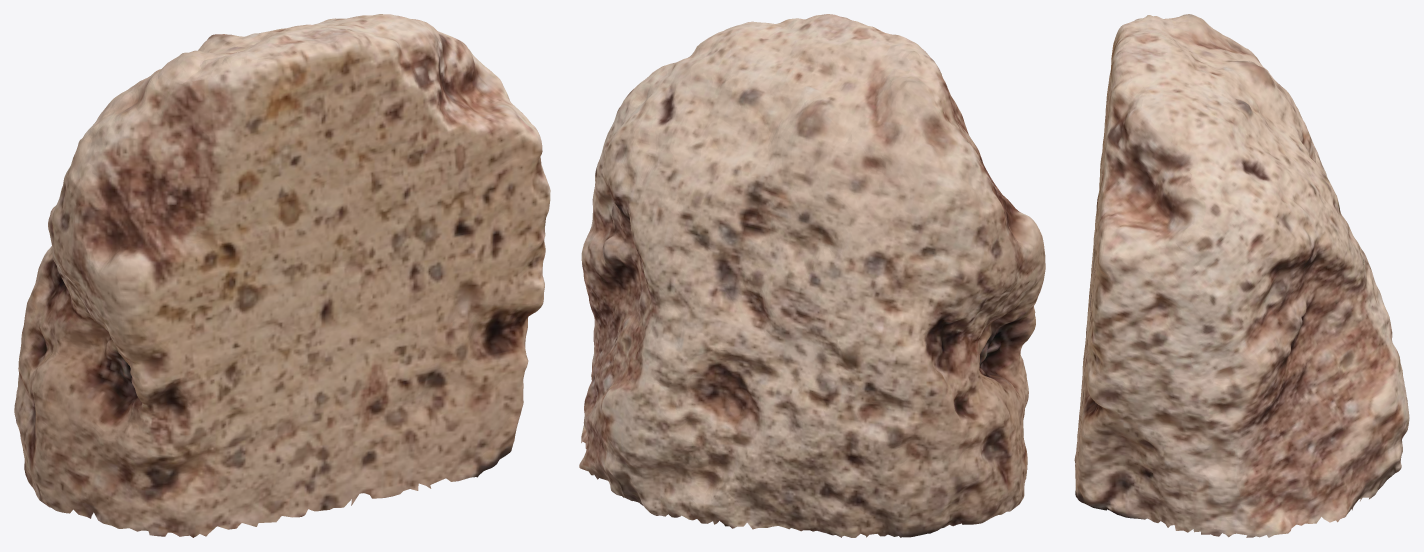
Rendered from tuff.glb.
3 views of the same model, side by side, from view 1: azimuth 30°, elevation 25°; view 2: azimuth 150°, elevation 25°; view 3: azimuth 270°, elevation 25° (orthographic). The views are drawn at different scales.
Parts seen in each view (by area): view 1: Object_2; view 2: Object_2; view 3: Object_2.
Boxes of the visible parts, x1,y1,x2,y2 form: Object_2: [14, 14, 550, 537]; Object_2: [579, 14, 1045, 537]; Object_2: [1074, 14, 1409, 537].
Size of the model in its own units: 0.08 by 0.0739 by 0.0562.
Materials: 1 (1 with a texture image).
